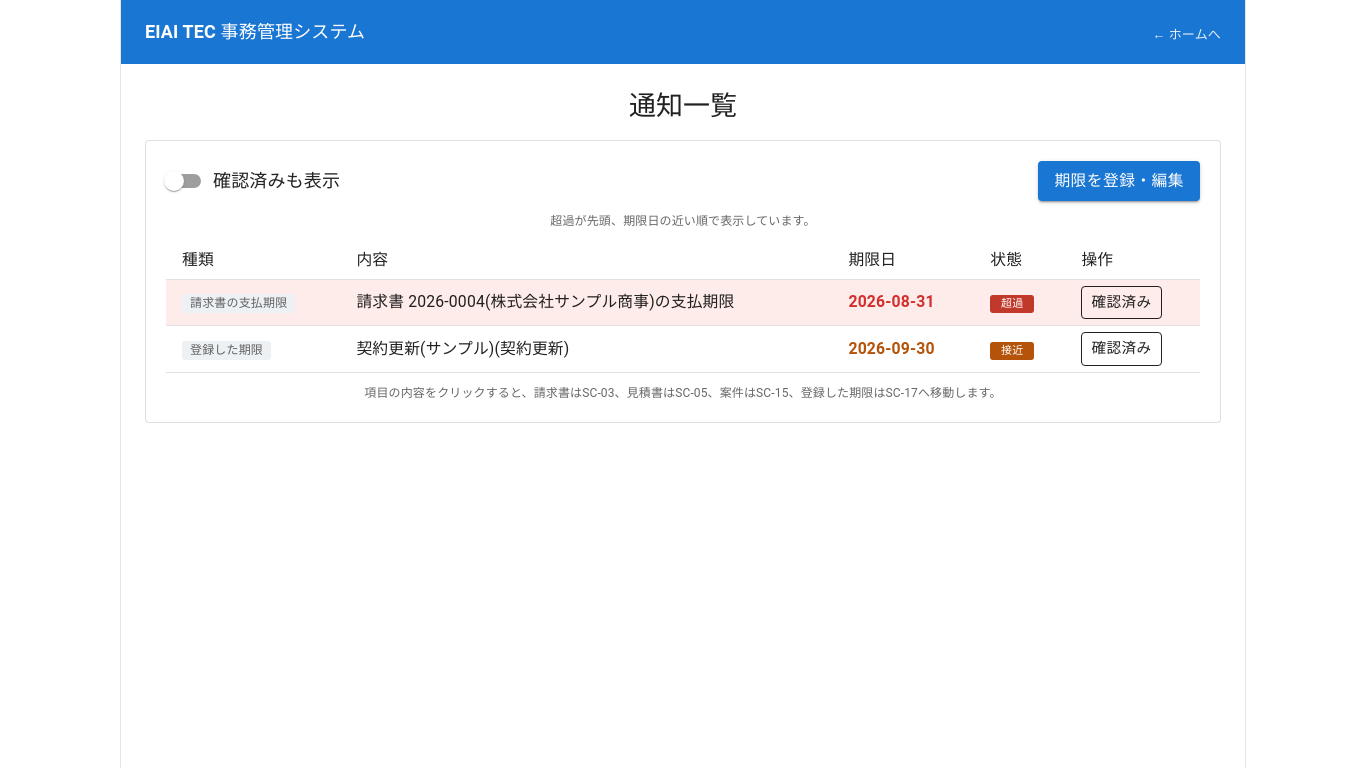
Test: NotificationListPage (SC-16) › 解消済み(404)ではメッセージを表示して再取得する
Check: the link "契約更新(サンプル)(契約更新)" is shown, box 356,339 -> 569,358
Click the button "確認済み" in the row of "請求書の支払期限" at (1122, 302), box 1082,286 -> 1162,319
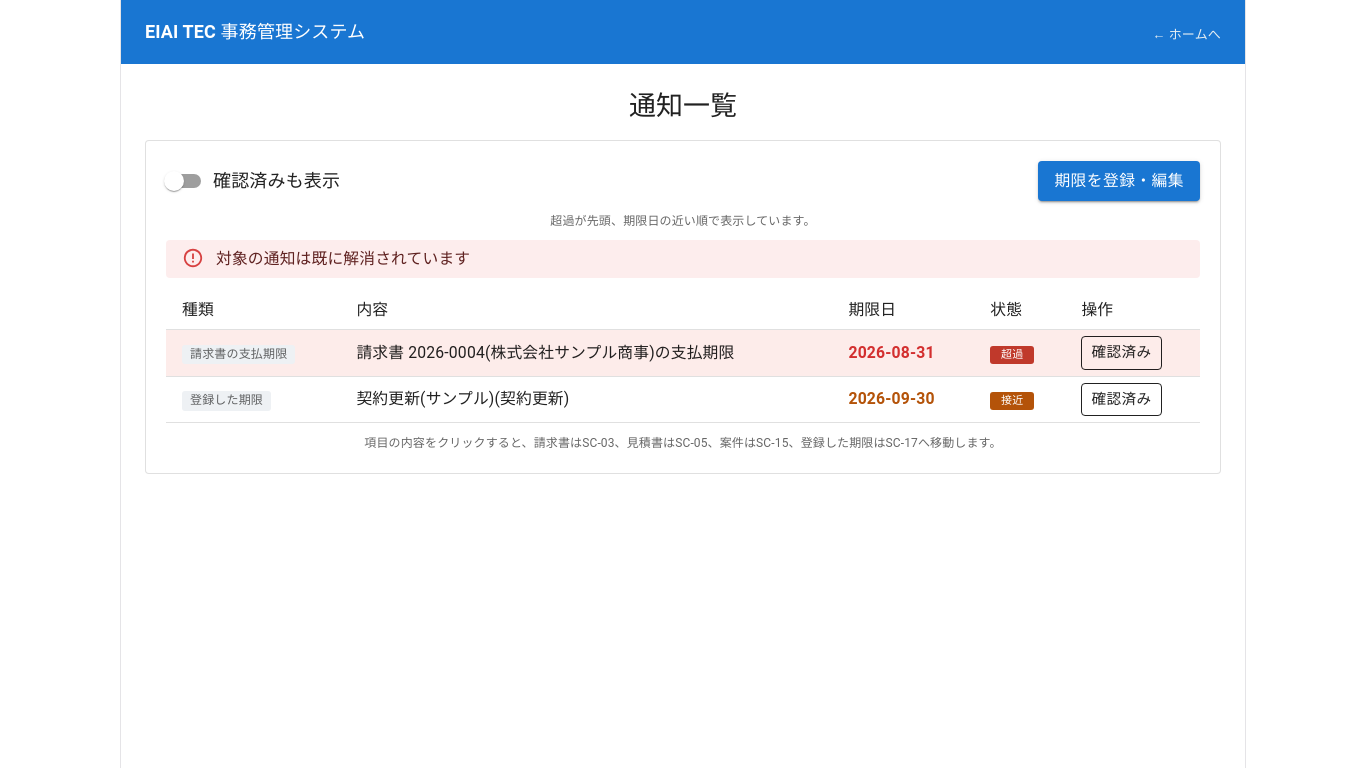
Check: the text "対象の通知は既に解消されています" is shown, box 216,249 -> 470,268
